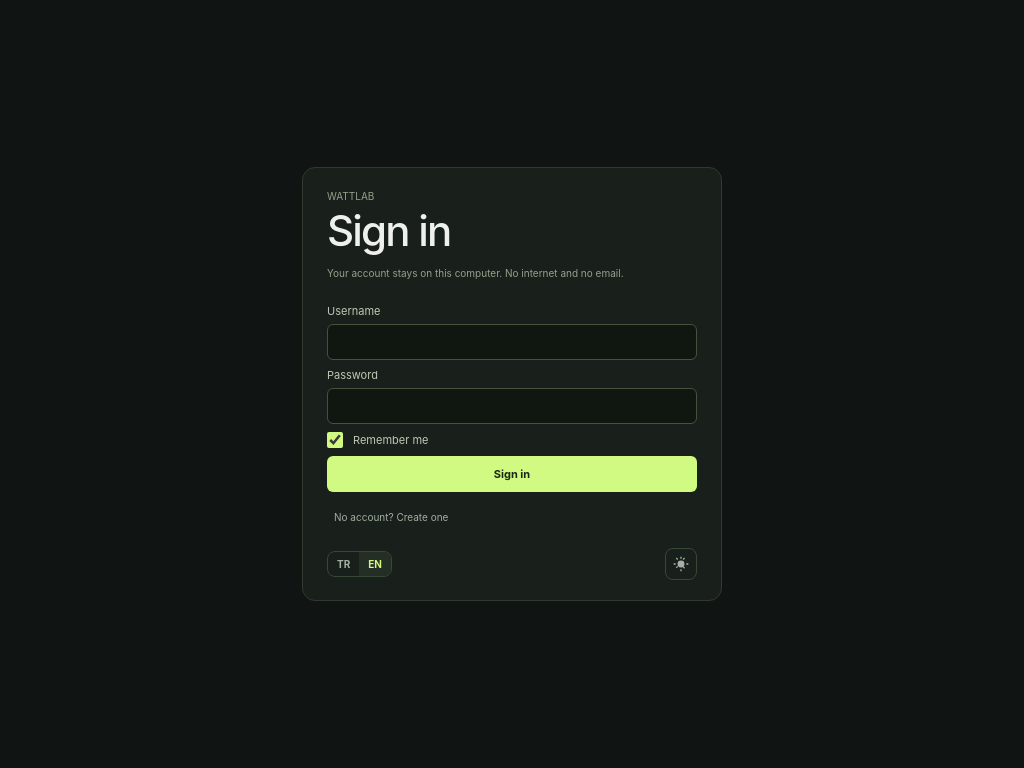
Test: App › registers from the form and then shows the app
The image size is (1024, 768).
Click the button "No account? Create one". click: (391, 517)
box: [327, 504, 455, 530]
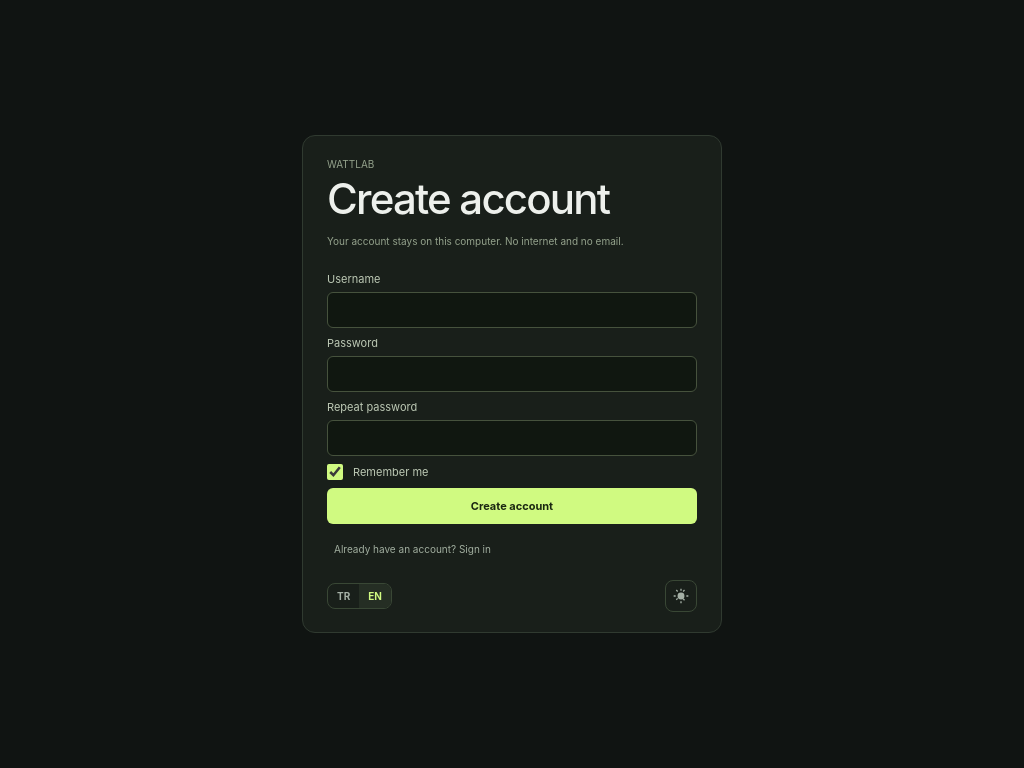
Type "holy" into the field labelled "Username". click: (512, 310)
box: [327, 292, 697, 328]
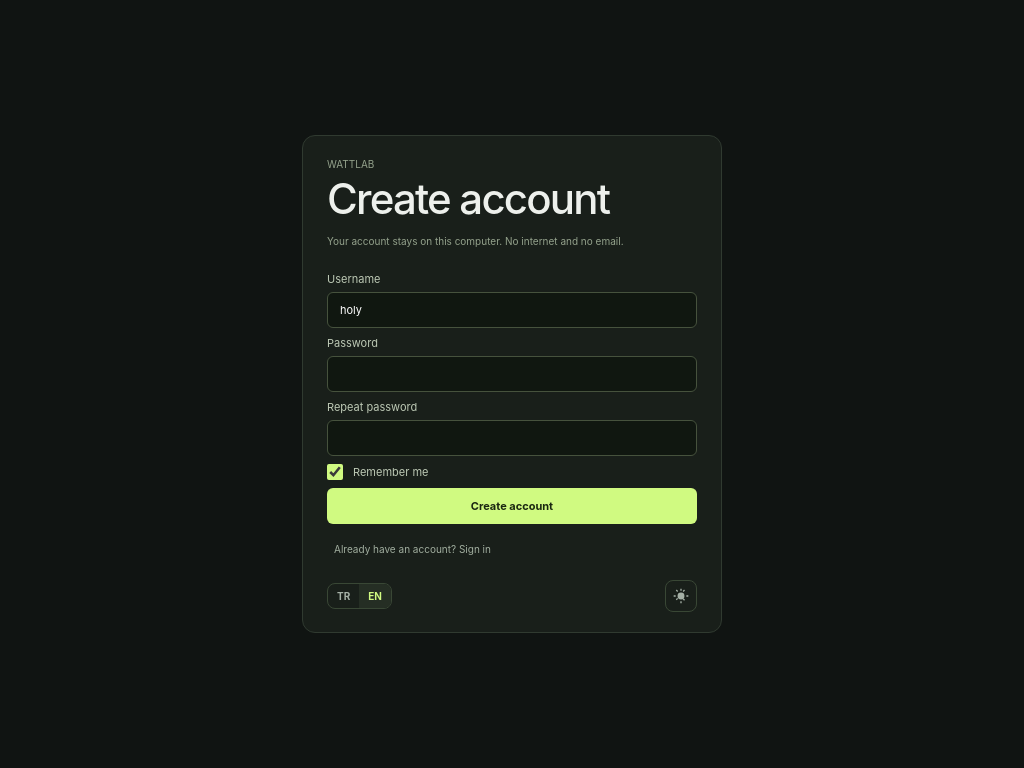
Type "correct horse" into the password field labelled "Password". click: (512, 374)
box: [327, 356, 697, 392]
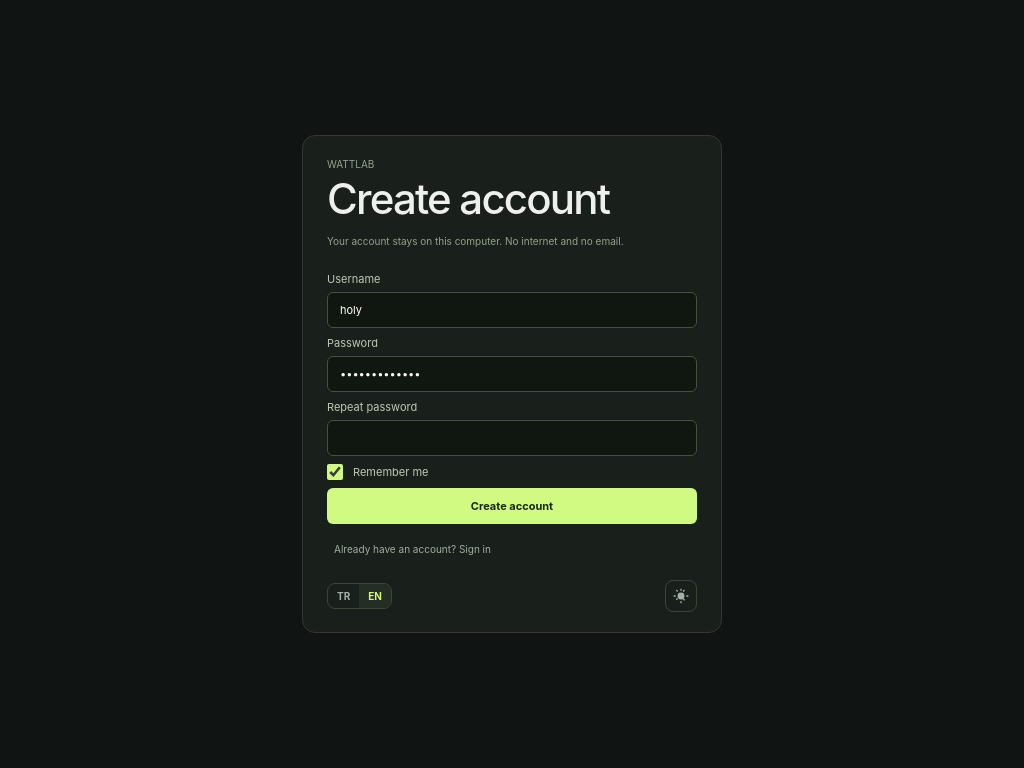
Type "correct horse" into the password field labelled "Repeat password". click: (512, 438)
box: [327, 420, 697, 456]
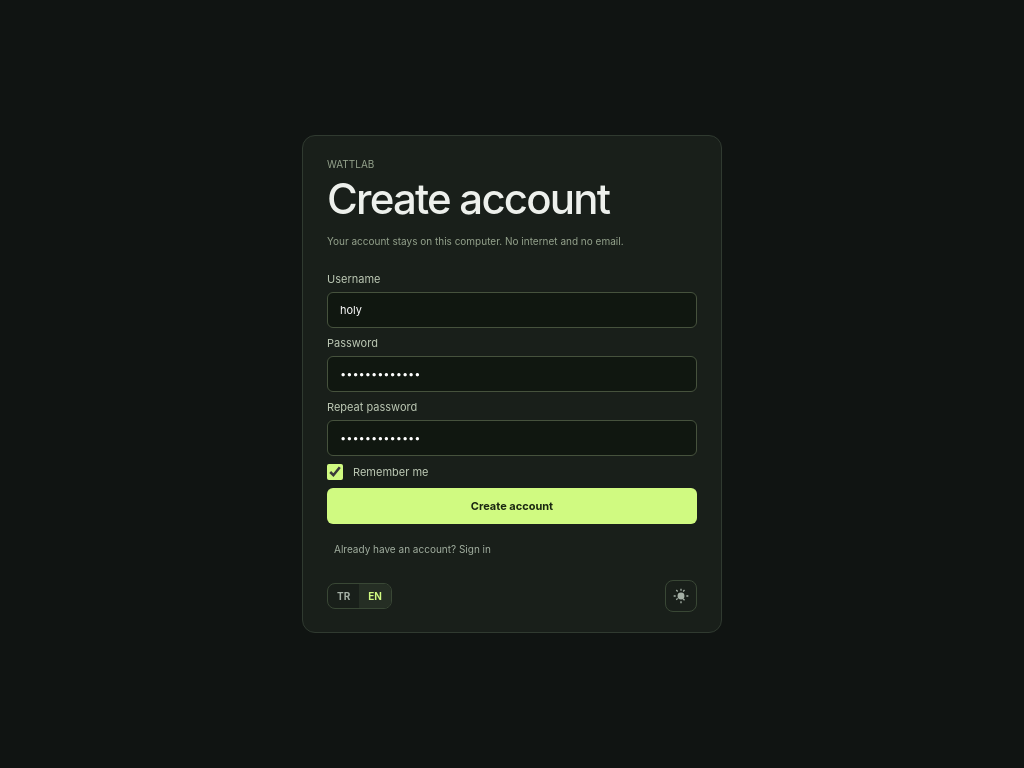
Click the button "Create account". click: (512, 506)
box: [327, 488, 697, 524]
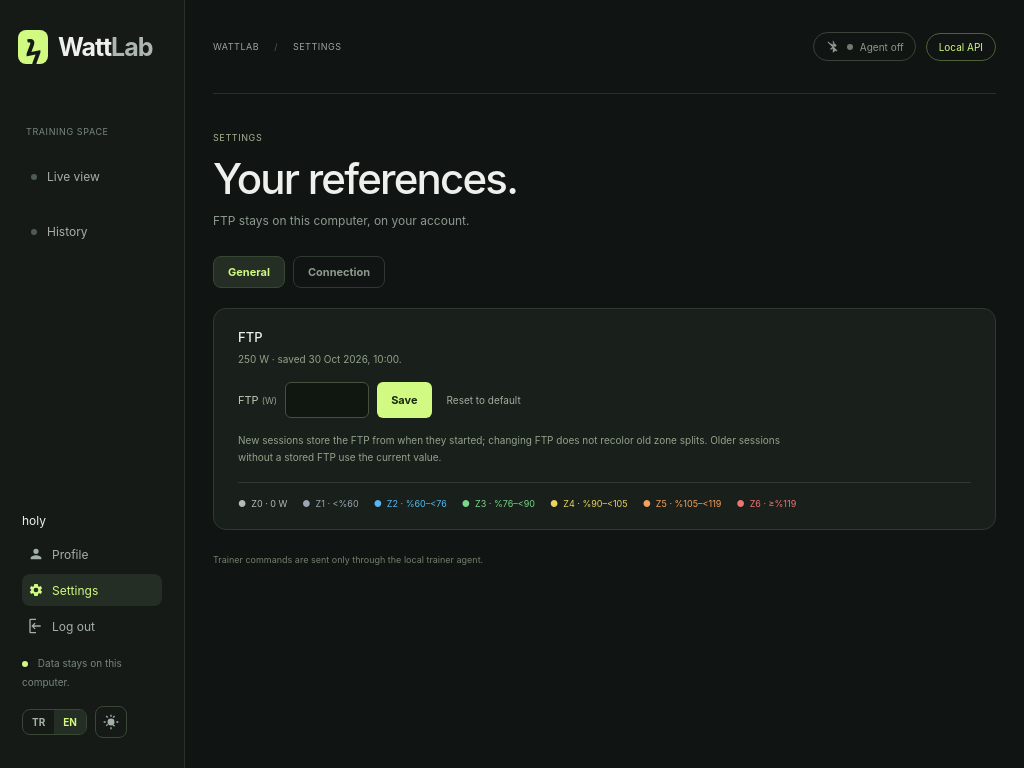
Expected: the text "250 W · saved 30 Oct 2026, 10:00." is shown, [238, 353, 402, 365]
